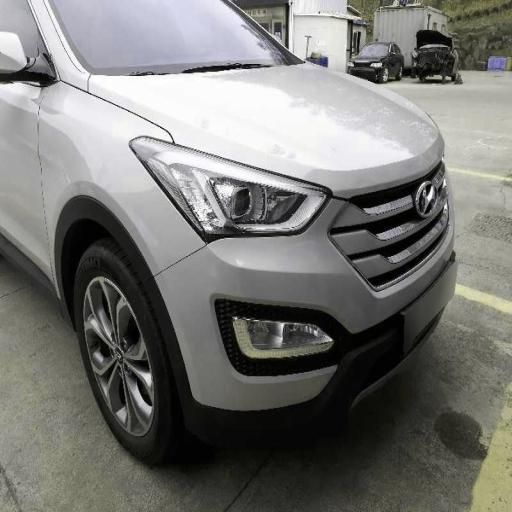scratch: (169, 220, 275, 314)
